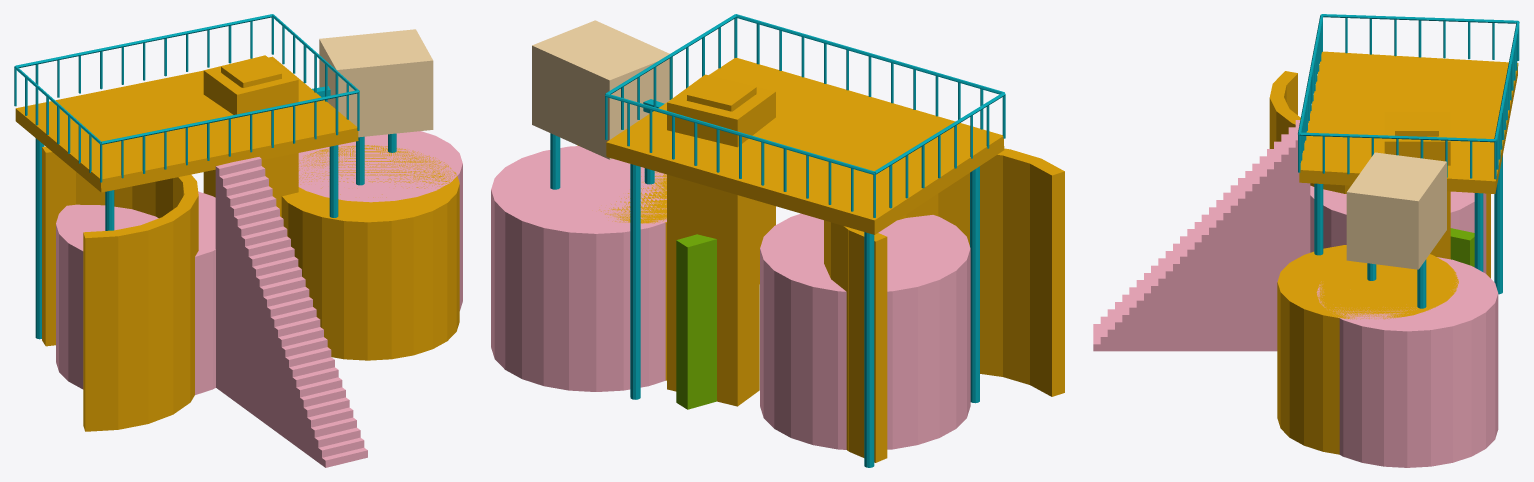
Rendered from folie_tag_085.glb.
3 views of the same model, side by side, from view 1: azimuth 30°, elevation 25°; view 2: azimuth 150°, elevation 25°; view 3: azimuth 270°, elevation 25° (orthographic). The views are drawn at different scales.
Visible parts, largest first — view 1: folie_tag_085_06_curve, folie_tag_085_03_drum, folie_tag_085_stairs, folie_tag_085_00_plate, folie_tag_085_line, folie_tag_085_01_drum, folie_tag_085_05_block, folie_tag_085_02_drum, folie_tag_085_04_tower, folie_tag_085_core; view 2: folie_tag_085_02_drum, folie_tag_085_01_drum, folie_tag_085_00_plate, folie_tag_085_06_curve, folie_tag_085_line, folie_tag_085_04_tower, folie_tag_085_05_block, folie_tag_085_07_fin, folie_tag_085_03_drum, folie_tag_085_core; view 3: folie_tag_085_02_drum, folie_tag_085_stairs, folie_tag_085_00_plate, folie_tag_085_03_drum, folie_tag_085_05_block, folie_tag_085_line, folie_tag_085_01_drum, folie_tag_085_06_curve, folie_tag_085_04_tower, folie_tag_085_core, folie_tag_085_07_fin.
Part boxes in pixels (x1=…): folie_tag_085_06_curve: x1=42, y1=146, x2=198, y2=431; folie_tag_085_03_drum: x1=281, y1=145, x2=459, y2=360; folie_tag_085_stairs: x1=215, y1=157, x2=367, y2=467; folie_tag_085_00_plate: x1=15, y1=56, x2=358, y2=192; folie_tag_085_line: x1=14, y1=14, x2=396, y2=339; folie_tag_085_01_drum: x1=56, y1=191, x2=215, y2=394; folie_tag_085_05_block: x1=319, y1=29, x2=433, y2=137; folie_tag_085_02_drum: x1=298, y1=131, x2=462, y2=310; folie_tag_085_04_tower: x1=203, y1=55, x2=298, y2=217; folie_tag_085_core: x1=221, y1=57, x2=281, y2=87; folie_tag_085_02_drum: x1=491, y1=146, x2=666, y2=391; folie_tag_085_01_drum: x1=760, y1=213, x2=970, y2=449; folie_tag_085_00_plate: x1=606, y1=58, x2=1004, y2=234; folie_tag_085_06_curve: x1=824, y1=148, x2=1064, y2=462; folie_tag_085_line: x1=550, y1=14, x2=1005, y2=467; folie_tag_085_04_tower: x1=667, y1=74, x2=775, y2=406; folie_tag_085_05_block: x1=532, y1=20, x2=672, y2=159; folie_tag_085_07_fin: x1=676, y1=234, x2=716, y2=409; folie_tag_085_03_drum: x1=577, y1=145, x2=666, y2=380; folie_tag_085_core: x1=687, y1=76, x2=756, y2=111; folie_tag_085_02_drum: x1=1316, y1=257, x2=1498, y2=467; folie_tag_085_stairs: x1=1093, y1=120, x2=1310, y2=351; folie_tag_085_00_plate: x1=1299, y1=51, x2=1518, y2=193; folie_tag_085_03_drum: x1=1277, y1=245, x2=1458, y2=454; folie_tag_085_05_block: x1=1346, y1=152, x2=1446, y2=269; folie_tag_085_line: x1=1298, y1=14, x2=1519, y2=308; folie_tag_085_01_drum: x1=1310, y1=185, x2=1486, y2=273; folie_tag_085_06_curve: x1=1269, y1=71, x2=1490, y2=278; folie_tag_085_04_tower: x1=1384, y1=112, x2=1450, y2=259; folie_tag_085_core: x1=1395, y1=112, x2=1438, y2=136; folie_tag_085_07_fin: x1=1450, y1=228, x2=1474, y2=267.
Bounding box in the file's own units: 12.12 × 7.26 × 10.61.
